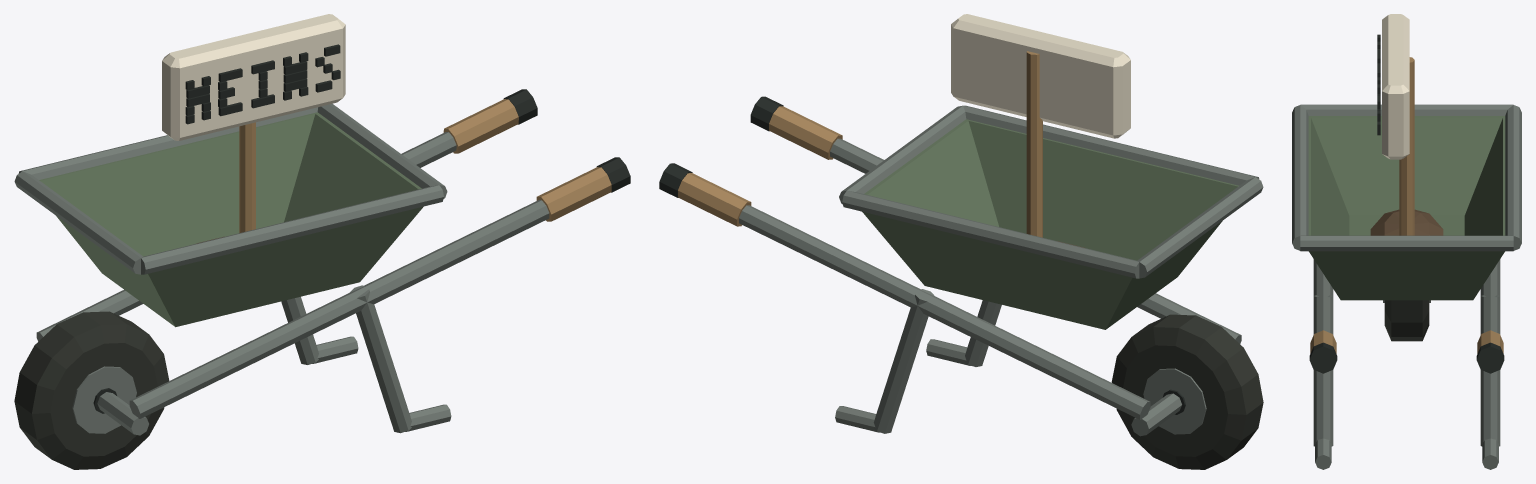
File: garden-wheelbarrow.glb
3 renders of one model, left to right at view 1: azimuth 30°, elevation 25°; view 2: azimuth 150°, elevation 25°; view 3: azimuth 270°, elevation 25°, orthographic. The views are drawn at different scales.
Parts seen in each view (by area): view 1: garden-wheelbarrow; view 2: garden-wheelbarrow; view 3: garden-wheelbarrow.
Part boxes in pixels (x1,y1,x2,y2): garden-wheelbarrow: [14, 14, 630, 469]; garden-wheelbarrow: [659, 14, 1263, 469]; garden-wheelbarrow: [1292, 14, 1521, 469].
Size of the model in its own units: 1.56 by 1.05 by 0.6191.
